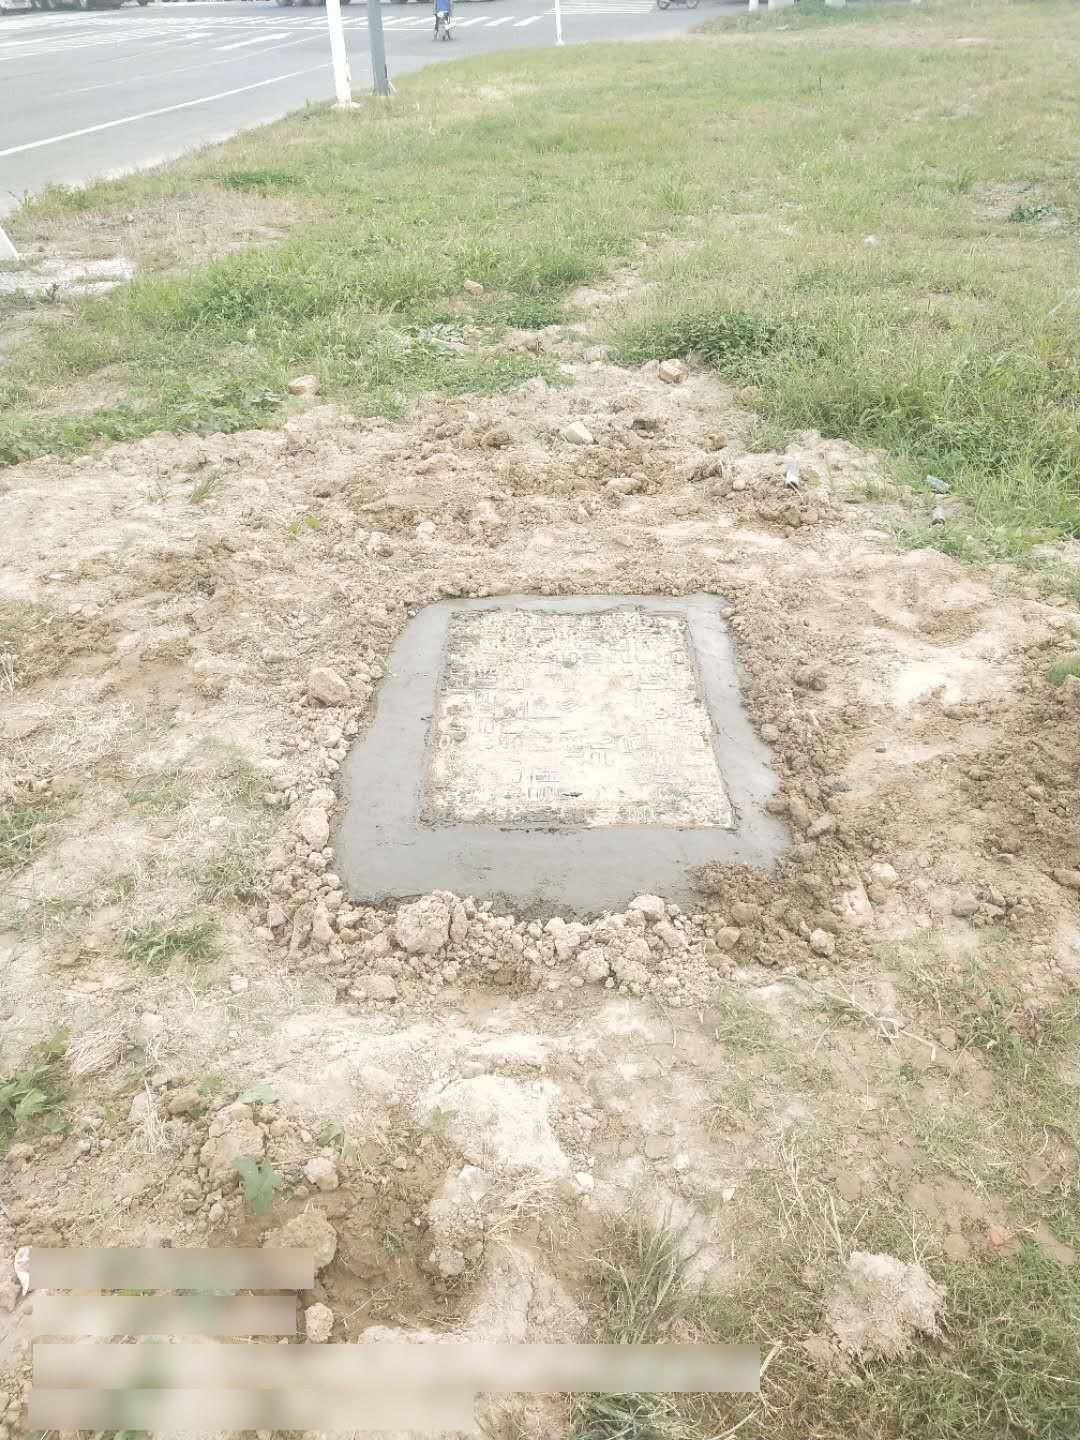wellcover: (365, 576, 817, 912)
